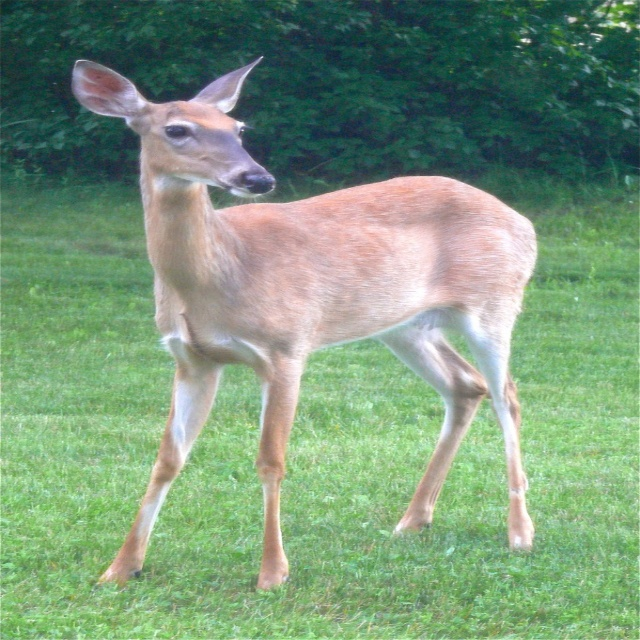Deer: (69, 58, 537, 593)
